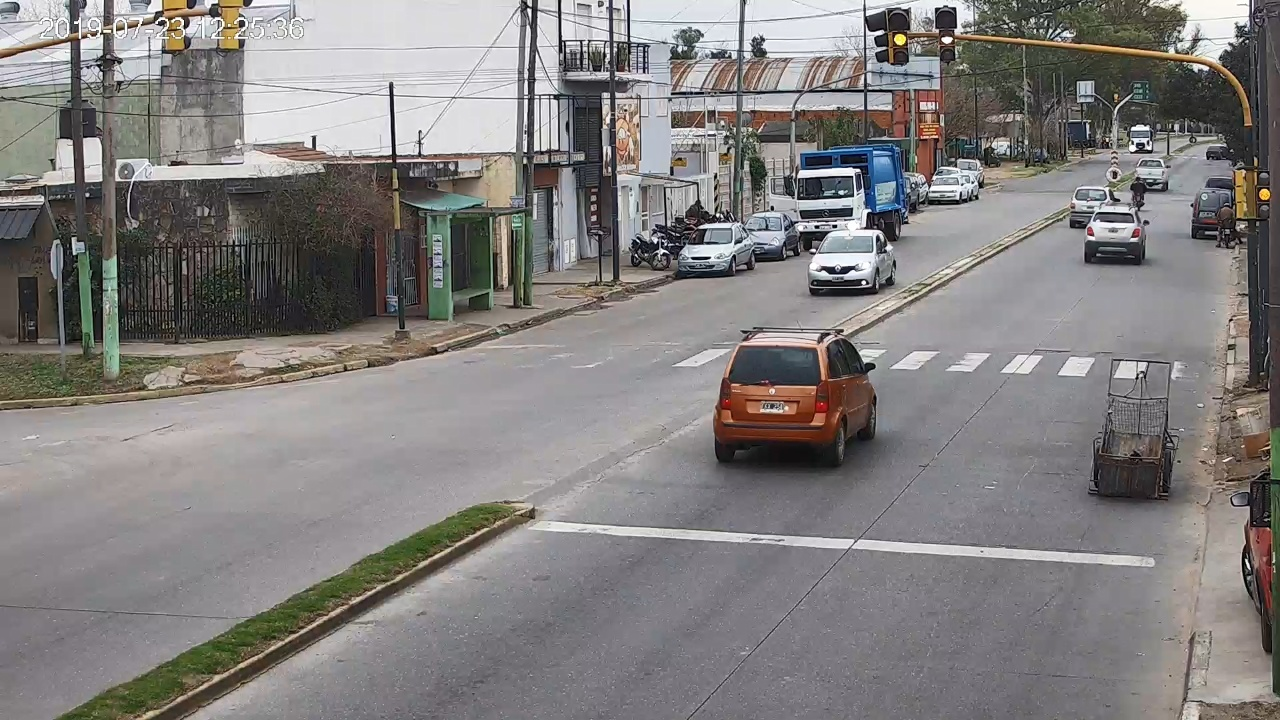car: (713, 327, 877, 464), (1084, 206, 1150, 265)
front car: (808, 230, 896, 294)
traffic light: (889, 7, 910, 64), (936, 7, 957, 60), (1257, 170, 1270, 219)
